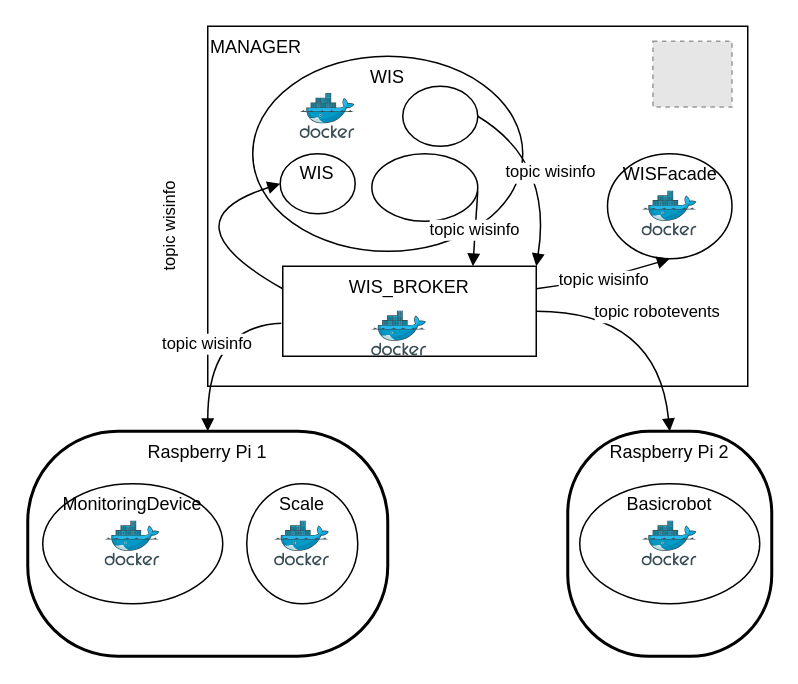
The diagram is 798 pixels wide and 684 high, and some of its shapes have lost their labels. Grey dashed boxes stand in for pictures. Here are the shapes that lost their labels. From the top down, the centre of each, then its label:
At point 439,115: "opRobot".
At point 424,186: "Incinerator".
